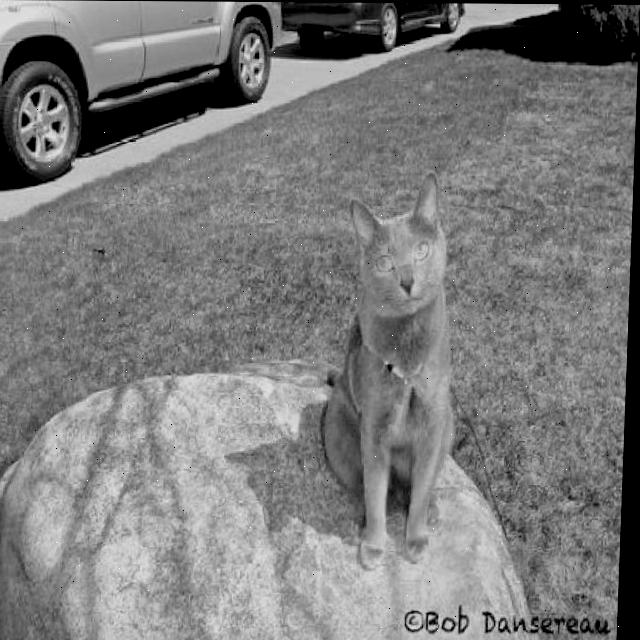Cat: (314, 167, 460, 570)
